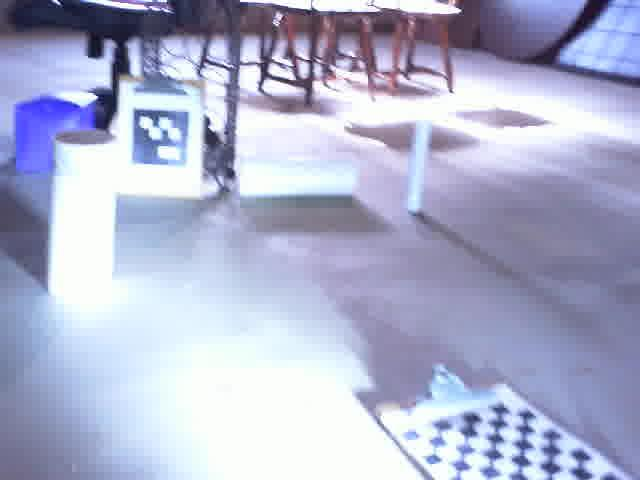coral: (47, 129, 124, 307), (236, 153, 361, 199)
